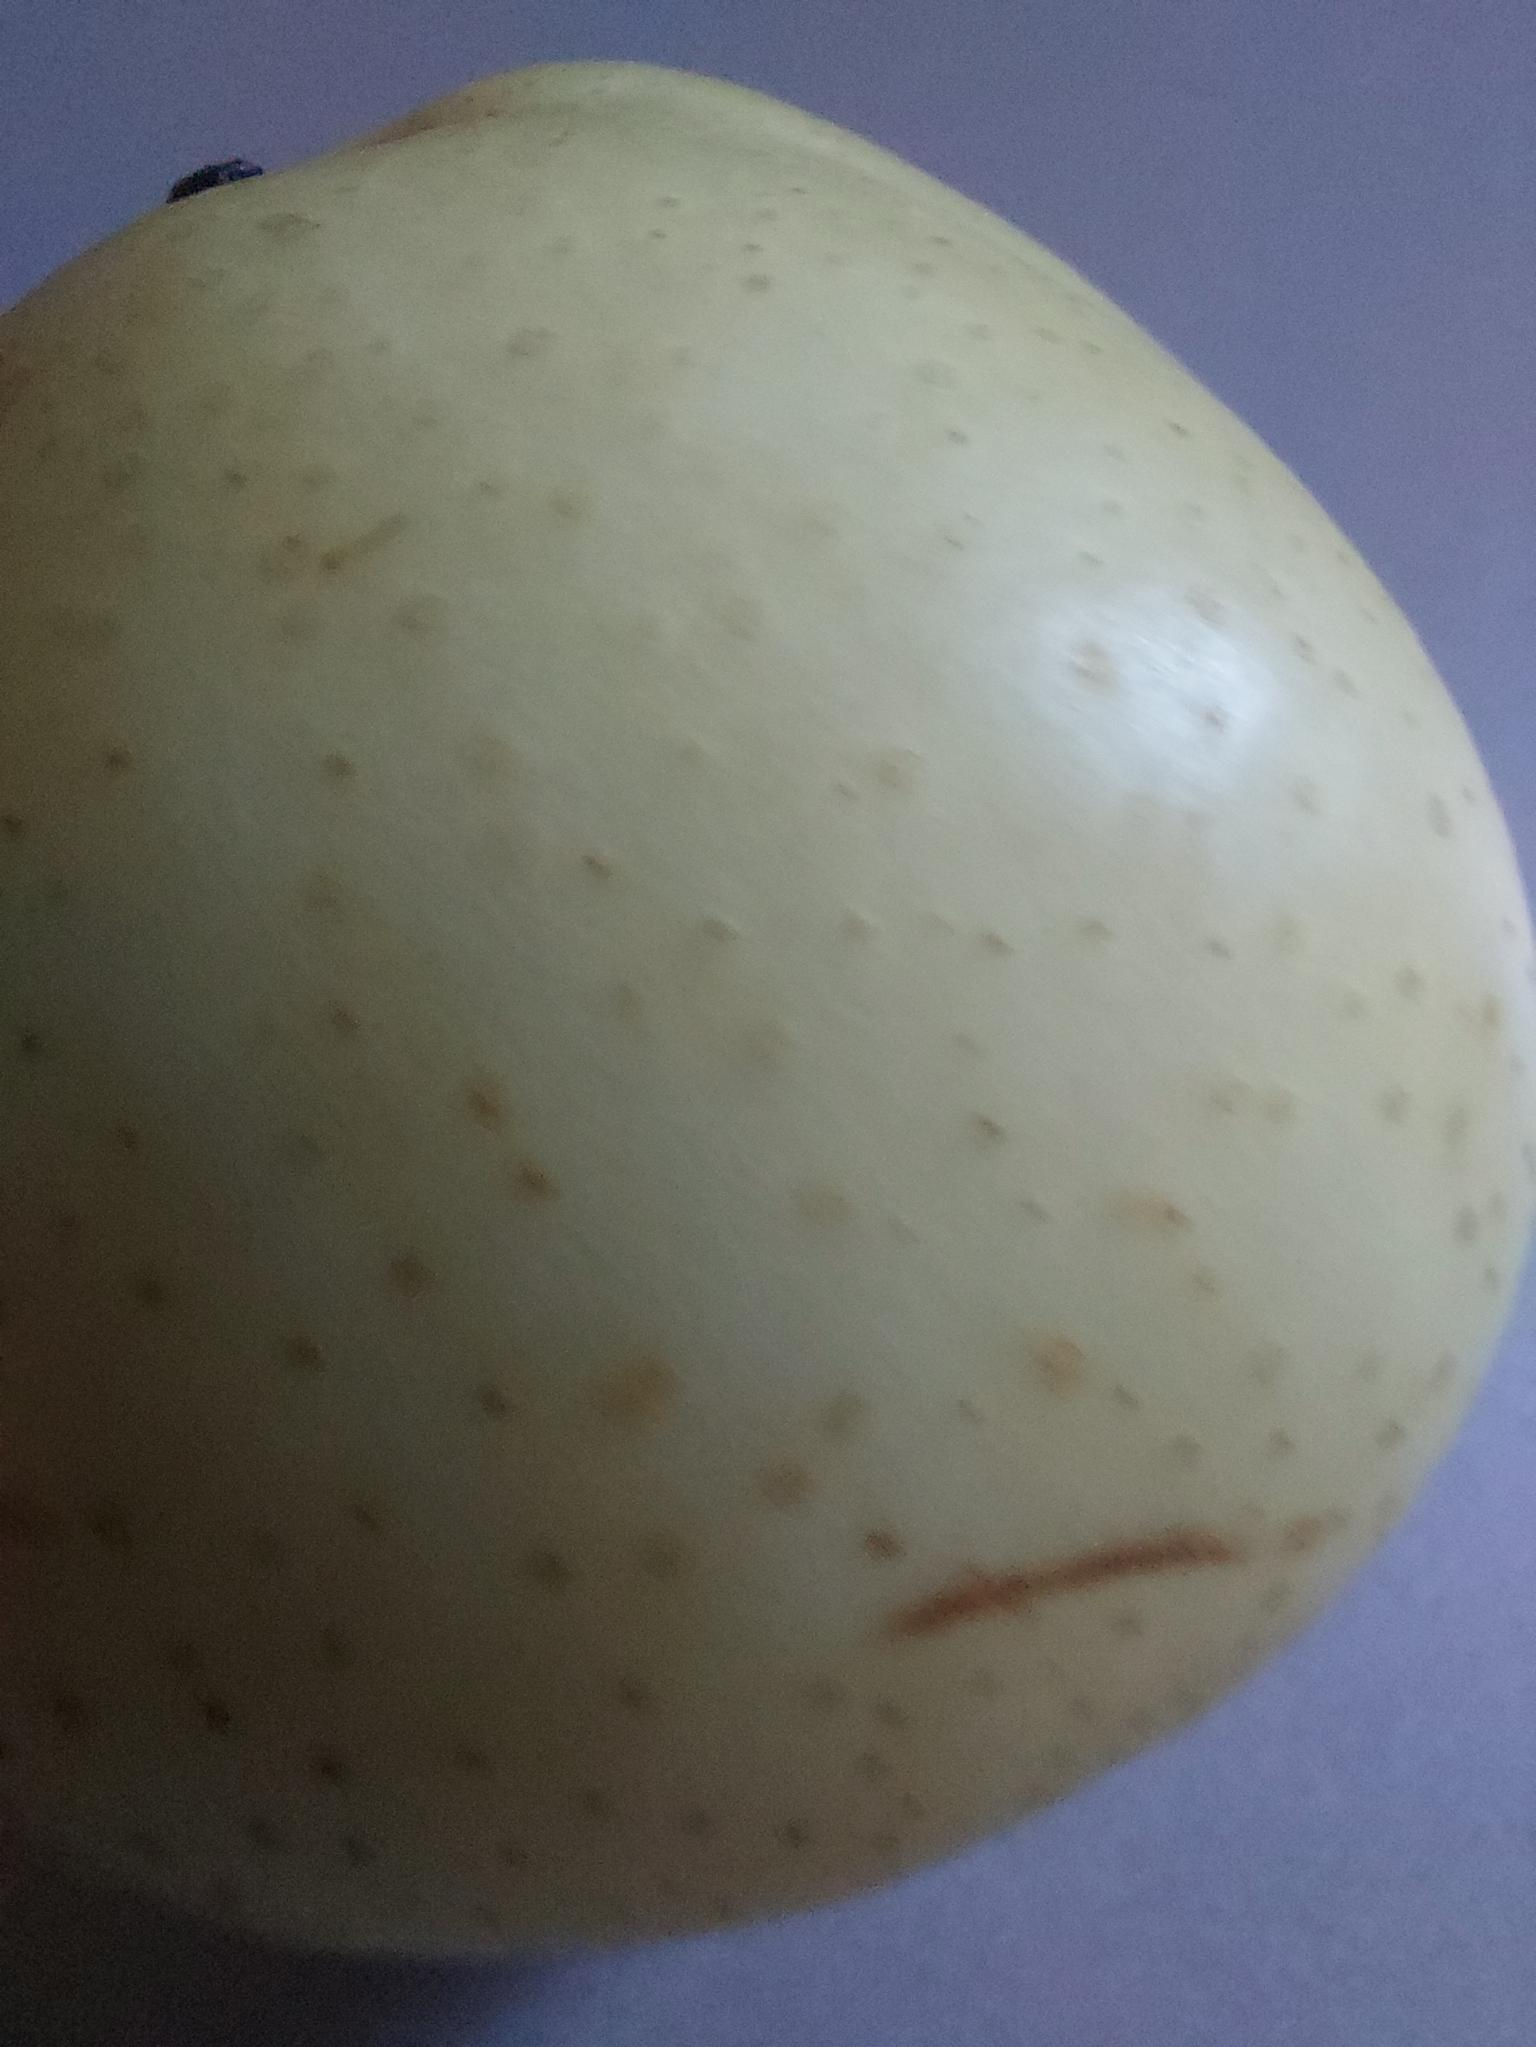Good Pear: (0, 11, 1536, 2047)
